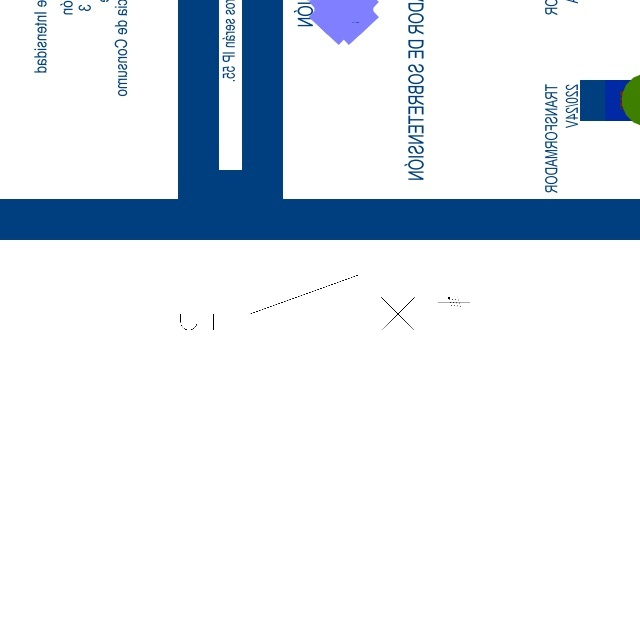interruptor_termomagnetico: (153, 268, 437, 337)
